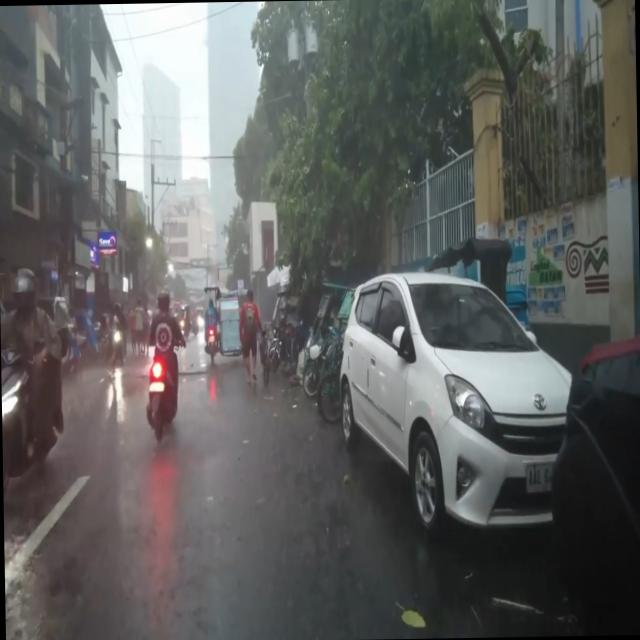full: (10, 265, 36, 314)
half: (156, 289, 171, 314)
